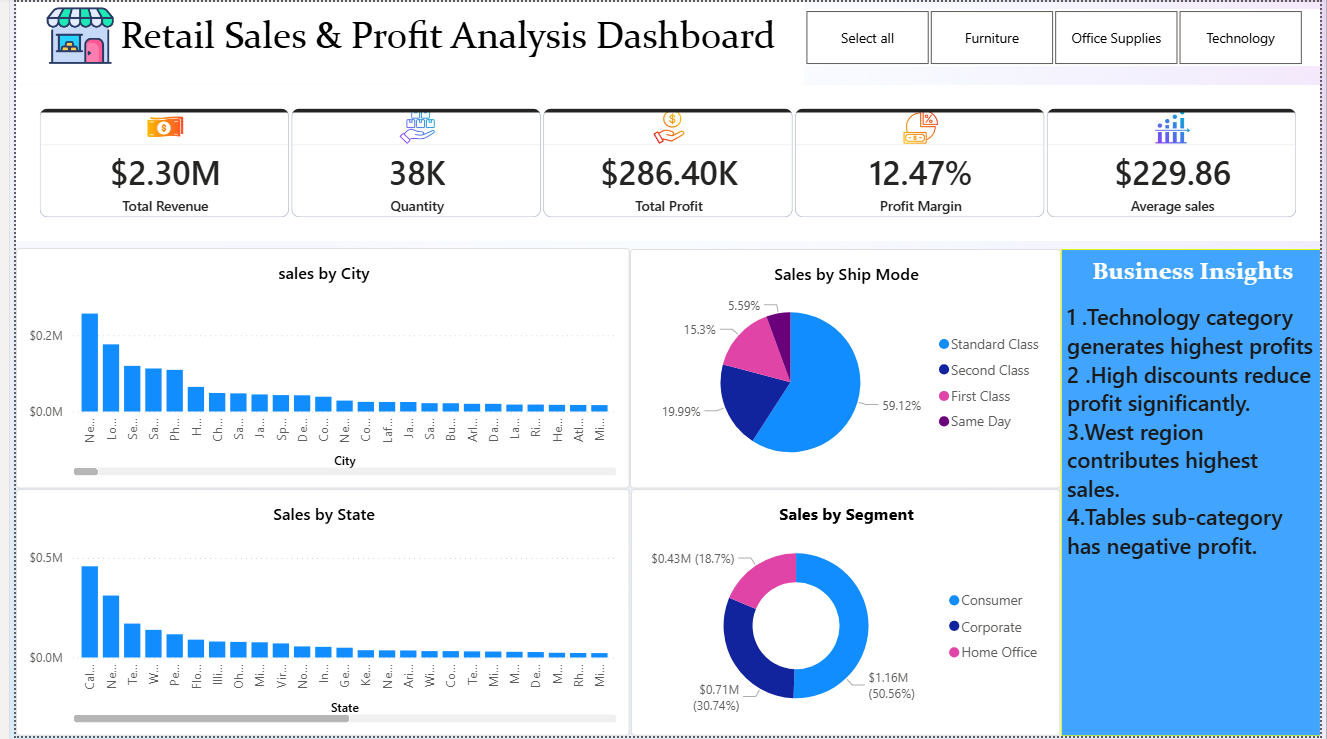

The page's visual inventory and layout, read from the dashboard file:
{"tool":"powerbi","page":{"name":"Dashboard","canvas":[1280,720],"ordinal":0},"visuals":[{"type":"donutChart","title":"Sales by Segment","fields":{"Category":["SampleSuperstore.Segment"],"Y":["Sum(SampleSuperstore.Sales)"]},"box":[603.5,477.7,420.8,242.3],"z":0,"group":"g1"},{"type":"textbox","box":[1.3,0,772,81.4],"z":1000,"group":"g1"},{"type":"cardVisual","fields":{"Data":["SampleSuperstore.Total Revenue","Sum(SampleSuperstore.Quantity)","SampleSuperstore.Total Profit","SampleSuperstore.Profit Margin","SampleSuperstore.Average sales"]},"box":[0,81.4,1279.1,153],"z":1000,"group":"g2"},{"type":"columnChart","title":"sales by City","fields":{"Category":["SampleSuperstore.City"],"Y":["Sum(SampleSuperstore.Sales)"]},"box":[0,241.3,602.3,236.4],"z":1000},{"type":"image","box":[0,0,126.5,65.7],"z":2000,"group":"g1"},{"type":"columnChart","title":" Sales by State","fields":{"Y":["Sum(SampleSuperstore.Sales)","Sum(SampleSuperstore.Sales)"],"Category":["SampleSuperstore.State"]},"box":[0,477.7,602.3,242.3],"z":2000},{"type":"group","id":"g1","title":"Group 1","box":[0,0,1024.4,720],"z":2008,"group":"g2"},{"type":"pieChart","title":"Sales by Ship Mode","fields":{"Y":["Sum(SampleSuperstore.Sales)"],"Category":["SampleSuperstore.Ship Mode"]},"box":[602.3,242.3,422.8,235.4],"z":3000},{"type":"slicer","title":"category","fields":{"Values":["SampleSuperstore.Category"]},"box":[754.3,6.9,525.8,55.9],"z":5000},{"type":"group","id":"g2","title":"Group 2","box":[0,0,1279.1,720],"z":6000},{"type":"textbox","box":[1025.1,242.3,255,477.7],"z":6001}]}

Visuals, with their boxes in screenshot pixels (x1, y1, x2, y2), scaled from the page's 1280x720 canvas onto the 1327x739 screenshot:
"Sales by Segment" donutChart: <box>626,490,1062,738</box>
textbox: <box>1,0,802,84</box>
cardVisual - SampleSuperstore.Total Revenue x Sum(SampleSuperstore.Quantity): <box>0,84,1326,241</box>
"sales by City" columnChart: <box>0,248,624,490</box>
image: <box>0,0,131,67</box>
" Sales by State" columnChart: <box>0,490,624,738</box>
"Group 1" group: <box>0,0,1062,738</box>
"Sales by Ship Mode" pieChart: <box>624,249,1063,490</box>
"category" slicer: <box>782,7,1326,64</box>
"Group 2" group: <box>0,0,1326,738</box>
textbox: <box>1063,249,1326,738</box>
